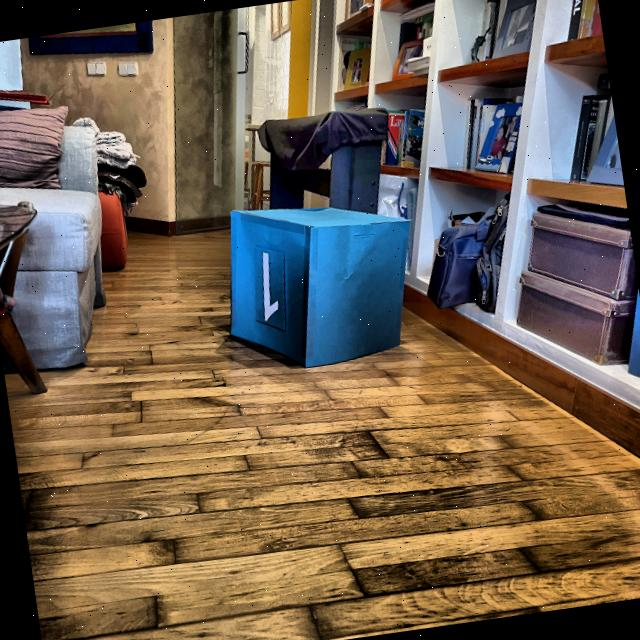blue box: (211, 182, 434, 382)
one: (253, 248, 287, 327)
